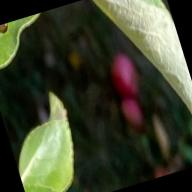Apples: (107, 52, 142, 100), (120, 97, 144, 130)
